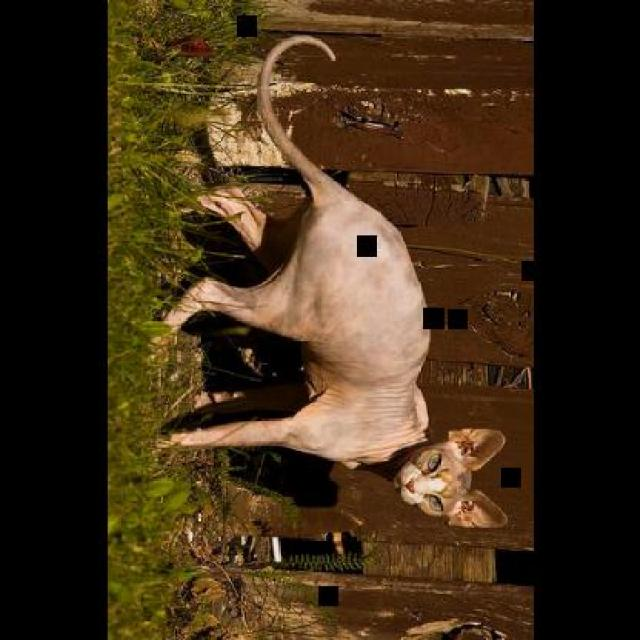unauthorized: (149, 32, 509, 531)
